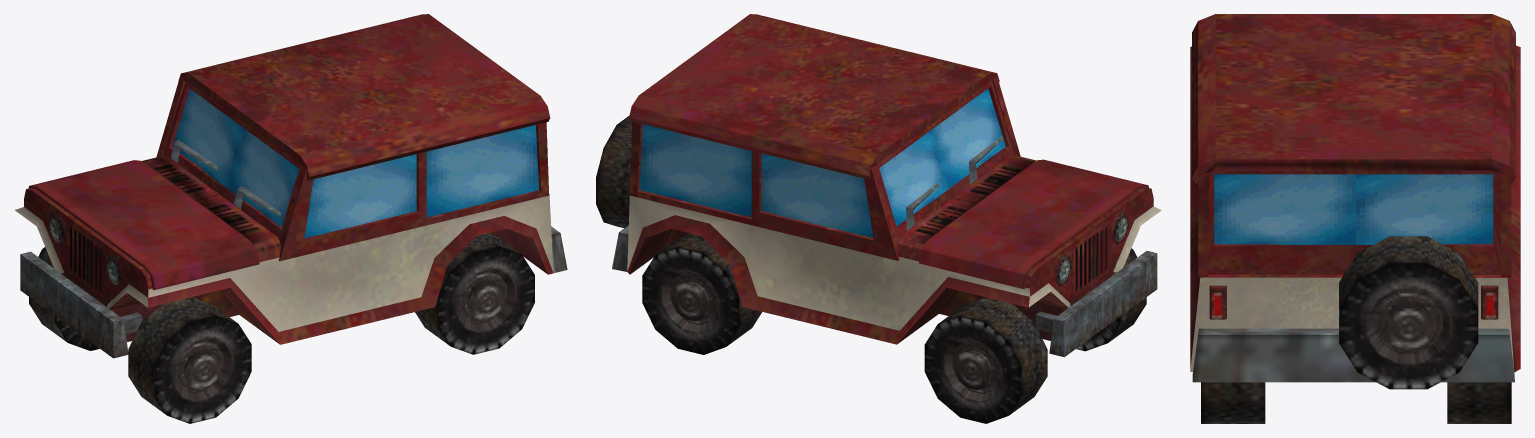
File: v3 jeep editado.fbx
The picture shows the model from 3 angles, left to right: view 1: azimuth 30°, elevation 25°; view 2: azimuth 150°, elevation 25°; view 3: azimuth 270°, elevation 25°; orthographic projection. The views are drawn at different scales.
Visible parts, largest first — view 1: jeep; view 2: jeep; view 3: jeep.
Part boxes in pixels (x1=…): jeep: x1=15, y1=14, x2=567, y2=423; jeep: x1=596, y1=14, x2=1161, y2=423; jeep: x1=1190, y1=14, x2=1520, y2=423.
Size of the model in its own units: 960 by 462 by 472.
